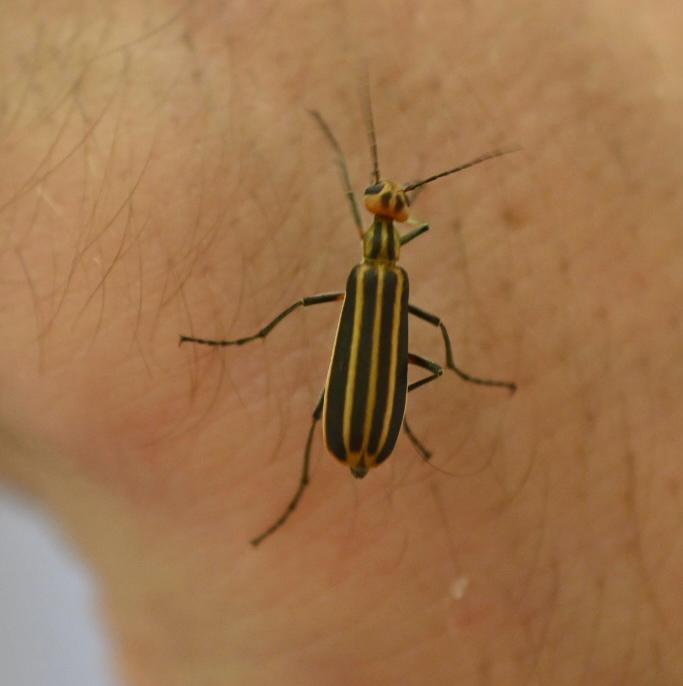blister_beetle: (127, 15, 619, 577)
